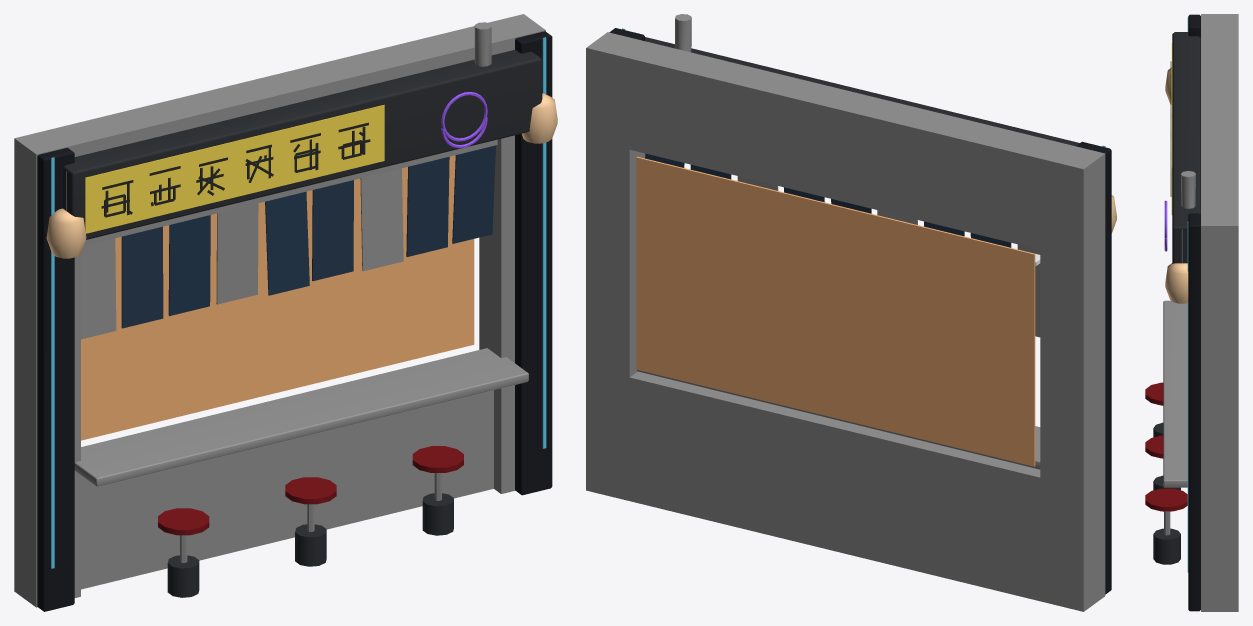
The model's file is Building_Facade_Panel_Shop_Noodle.fbx.
3 renders of one model, left to right at view 1: azimuth 30°, elevation 25°; view 2: azimuth 150°, elevation 25°; view 3: azimuth 270°, elevation 25°, orthographic. The views are drawn at different scales.
Parts seen in each view (by area): view 1: Building_Facade_Panel_Shop_Noodle_LOD0; view 2: Building_Facade_Panel_Shop_Noodle_LOD0; view 3: Building_Facade_Panel_Shop_Noodle_LOD0.
Boxes of the visible parts, x1,y1,x2,y2 form: Building_Facade_Panel_Shop_Noodle_LOD0: (14,14,557,611); Building_Facade_Panel_Shop_Noodle_LOD0: (586,14,1116,611); Building_Facade_Panel_Shop_Noodle_LOD0: (1145,14,1238,611).
Size of what is drawn, in the model's own units: 4 by 3.6 by 0.7439.
